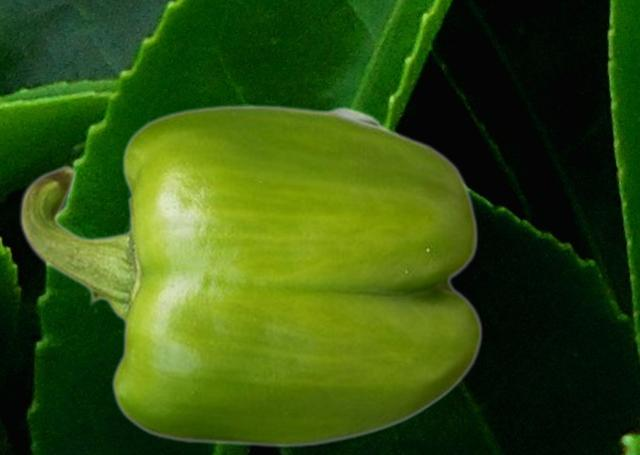bell_pepper: (19, 104, 482, 447)
